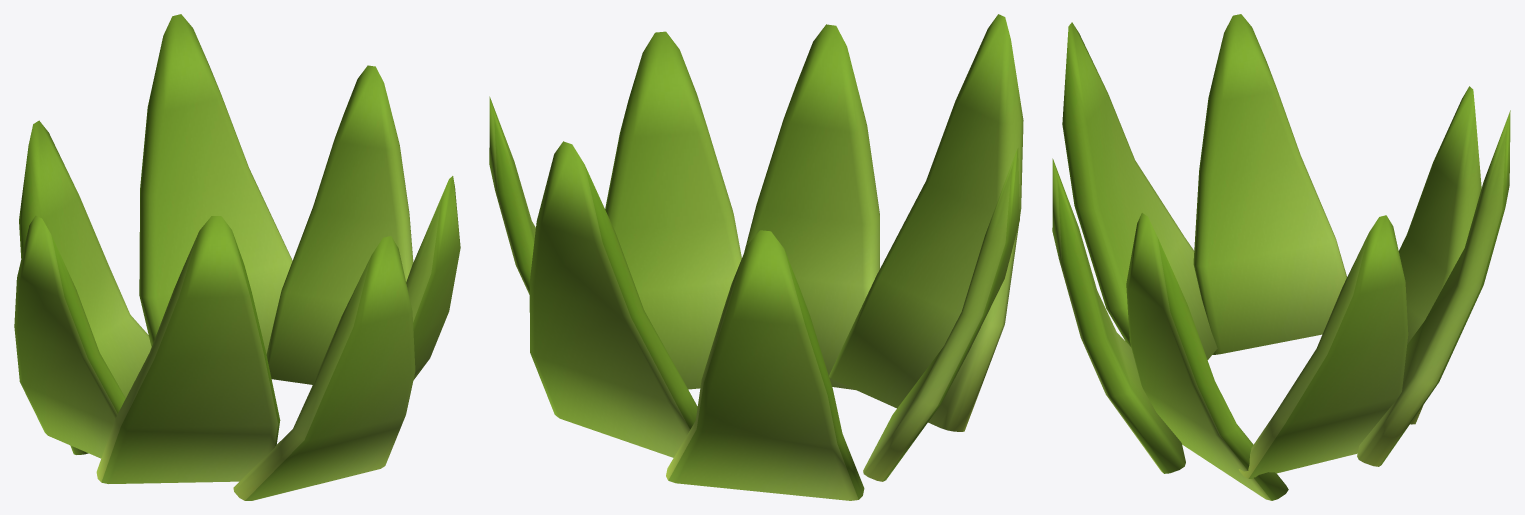
File: Grass1.fbx
3 renders of one model, left to right at view 1: azimuth 30°, elevation 25°; view 2: azimuth 150°, elevation 25°; view 3: azimuth 270°, elevation 25°, orthographic. The views are drawn at different scales.
Parts seen in each view (by area): view 1: Cube.010, Cube.017, Cube.016, Cube.012, Cube.011, Cube.015, Cube.013; view 2: Cube.010, Cube.015, Cube.017, Cube.013, Cube.012, Cube.011, Cube.016; view 3: Cube.011, Cube.016, Cube.010, Cube.013, Cube.017, Cube.015, Cube.012.
Part boxes in pixels (box(x1,y1,x2,y2)): Cube.010: box(96, 216, 280, 483); Cube.017: box(139, 14, 292, 354); Cube.016: box(266, 65, 413, 384); Cube.012: box(233, 236, 415, 500); Cube.011: box(14, 215, 125, 458); Cube.015: box(19, 120, 151, 454); Cube.013: box(406, 176, 460, 380); Cube.010: box(829, 14, 1023, 431); Cube.015: box(666, 230, 864, 500); Cube.017: box(529, 141, 697, 457); Cube.013: box(605, 31, 741, 389); Cube.012: box(744, 24, 879, 389); Cube.011: box(863, 148, 1019, 481); Cube.016: box(489, 96, 535, 294); Cube.011: box(1193, 14, 1346, 354); Cube.016: box(1238, 215, 1408, 478); Cube.010: box(1062, 22, 1217, 359); Cube.013: box(1126, 213, 1288, 500); Cube.017: box(1357, 110, 1510, 466); Cube.015: box(1399, 86, 1481, 424); Cube.012: box(1052, 158, 1185, 473).
Bounding box in the file's own units: 75.15 × 57.08 × 69.01.
